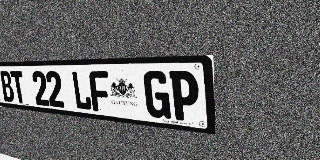2: (45, 71, 65, 108), (31, 71, 50, 106)
B: (0, 71, 15, 102)
F: (88, 71, 112, 113)
G: (143, 71, 171, 119)
L: (71, 71, 92, 111)
P: (169, 71, 200, 122)
T: (10, 71, 27, 104)
